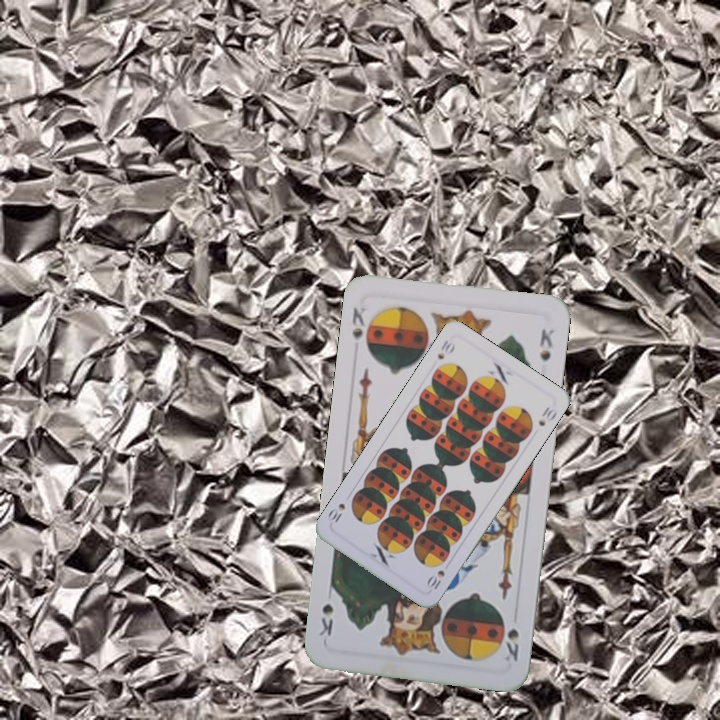S10: (433, 336, 458, 362), (424, 566, 448, 592)
SK: (497, 615, 522, 664), (347, 303, 369, 343)
